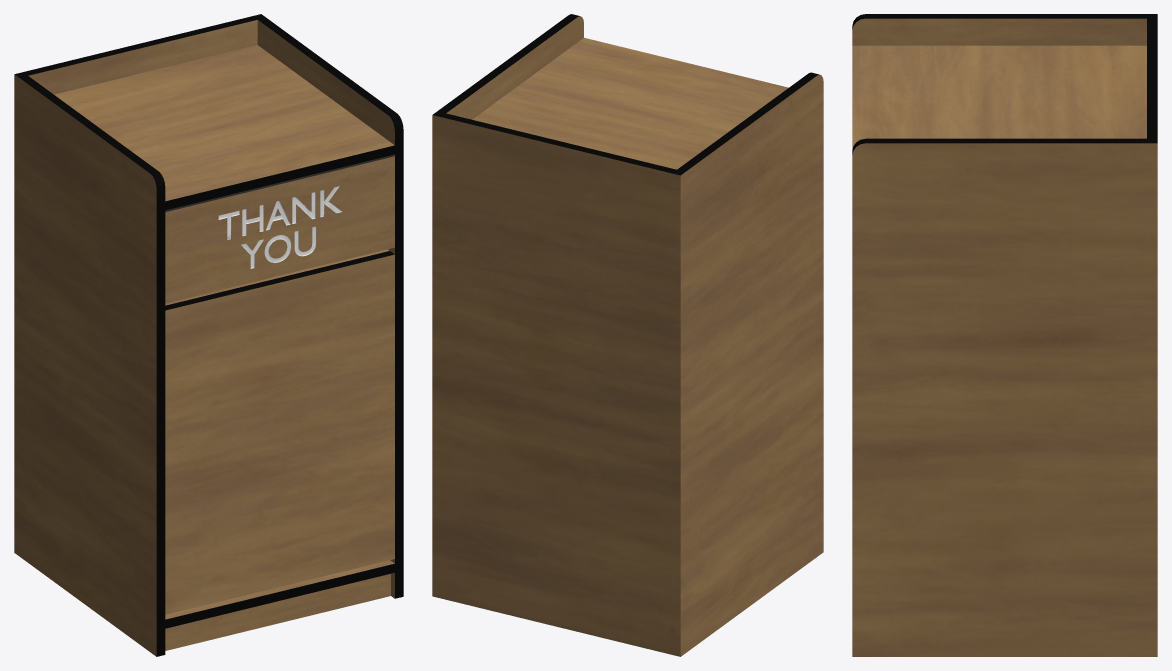
Rendered from trash_receptacle.glb.
3 views of the same model, side by side, from view 1: azimuth 30°, elevation 25°; view 2: azimuth 150°, elevation 25°; view 3: azimuth 270°, elevation 25° (orthographic). The views are drawn at different scales.
Visible parts, largest first — view 1: Resturant Trash Receptacle_1, Garbage Door_2, Swing Door_0; view 2: Resturant Trash Receptacle_1; view 3: Resturant Trash Receptacle_1.
Part boxes in pixels (x1,y1,x2,y2): Resturant Trash Receptacle_1: [14, 14, 403, 656]; Garbage Door_2: [165, 251, 394, 614]; Swing Door_0: [165, 155, 394, 303]; Resturant Trash Receptacle_1: [432, 14, 823, 656]; Resturant Trash Receptacle_1: [852, 14, 1157, 656].
Size of the model in its own units: 0.6032 by 1.12 by 0.602.
Materials: 5 (5 with a texture image).
